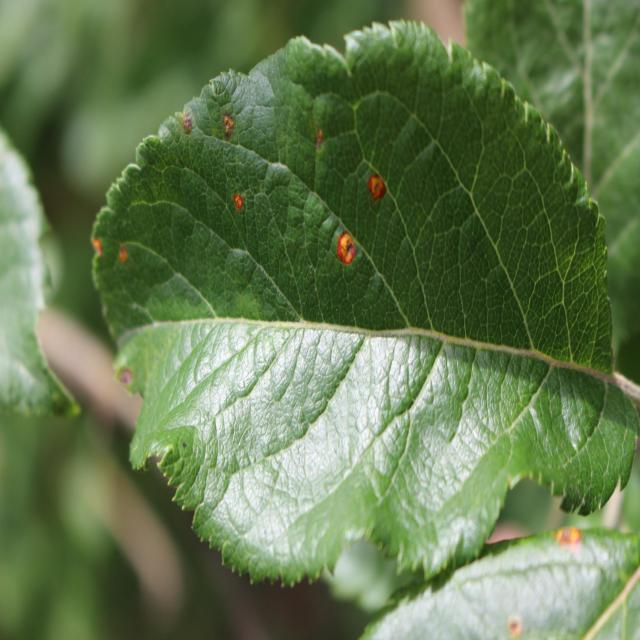Rust: (325, 219, 361, 287), (292, 115, 334, 171), (356, 158, 402, 208), (114, 230, 143, 302), (104, 354, 146, 399), (493, 598, 536, 640), (544, 524, 592, 560), (220, 182, 251, 228), (178, 102, 199, 154), (93, 212, 109, 272), (223, 102, 238, 157)
